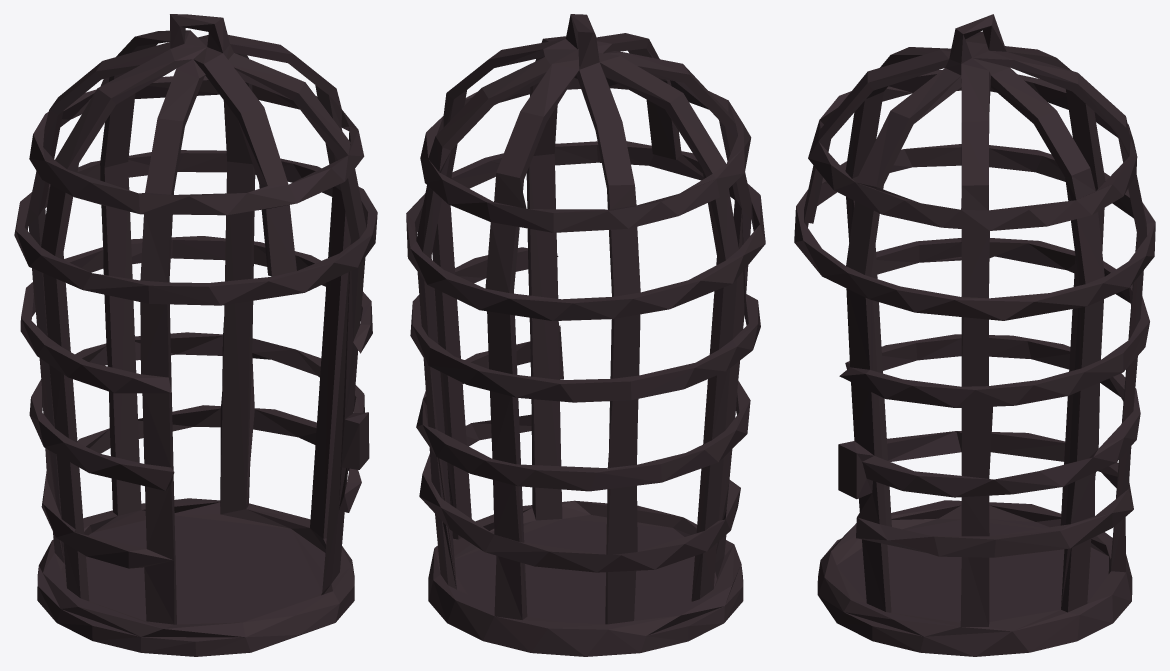
Rendered from MDungeon_Cage_01.FBX.
The picture shows the model from 3 angles, left to right: view 1: azimuth 30°, elevation 25°; view 2: azimuth 150°, elevation 25°; view 3: azimuth 270°, elevation 25°; orthographic projection.
Parts seen in each view (by area): view 1: MDungeon_Cage_01_LOD0; view 2: MDungeon_Cage_01_LOD0; view 3: MDungeon_Cage_01_LOD0.
Boxes of the visible parts, left/top/right/bottom form: MDungeon_Cage_01_LOD0: left=14, top=14, right=377, bottom=656; MDungeon_Cage_01_LOD0: left=406, top=14, right=765, bottom=656; MDungeon_Cage_01_LOD0: left=794, top=14, right=1155, bottom=656.
Size of what is drawn, in the model's own units: 1.15 by 2 by 1.15.
1 material, 1 textured.
